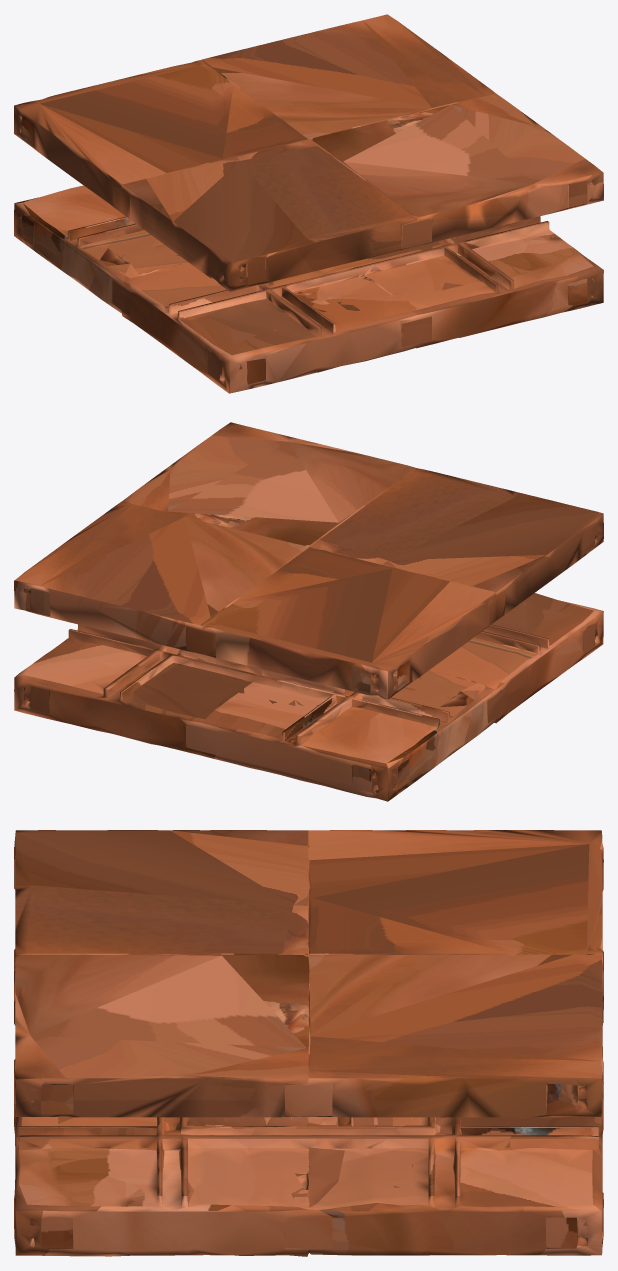
File: Env_FloorSlab_4m_Repaired.fbx
The picture shows the model from 3 angles, top to bottom: view 1: azimuth 30°, elevation 25°; view 2: azimuth 150°, elevation 25°; view 3: azimuth 270°, elevation 25°; orthographic projection. The views are drawn at different scales.
Visible parts, largest first — view 1: texture_mapping; view 2: texture_mapping; view 3: texture_mapping.
Part boxes in pixels (left/top/right/bottom): texture_mapping: left=14, top=14, right=603, bottom=393; texture_mapping: left=14, top=422, right=603, bottom=801; texture_mapping: left=14, top=830, right=603, bottom=1256.
Bounding box in the file's own units: 99.72 × 34.11 × 99.69.
